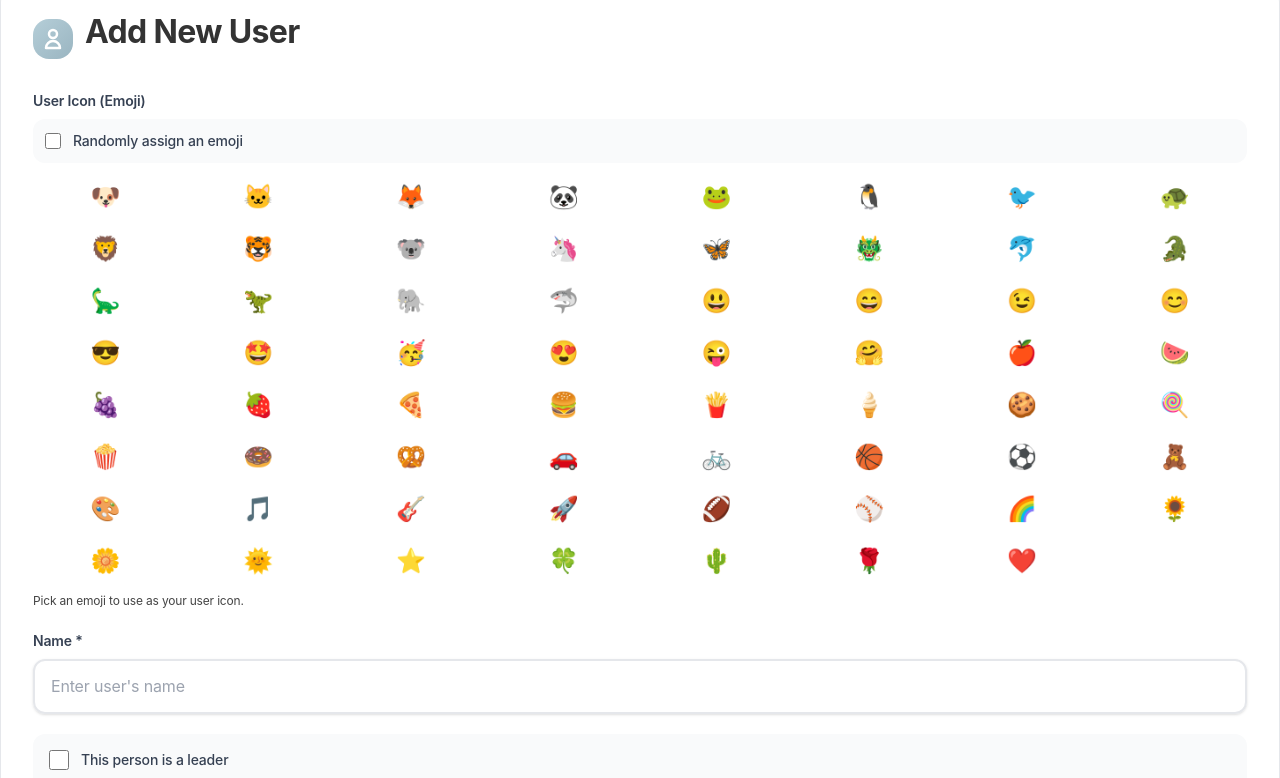
it: UserForm › form validation › enables submit button when name is provided
The image size is (1280, 778).
Type "John Doe" into the field labelled "Name *".
click(640, 687); type("John Doe")  # box [33,659,1247,714]
(page scrolled)
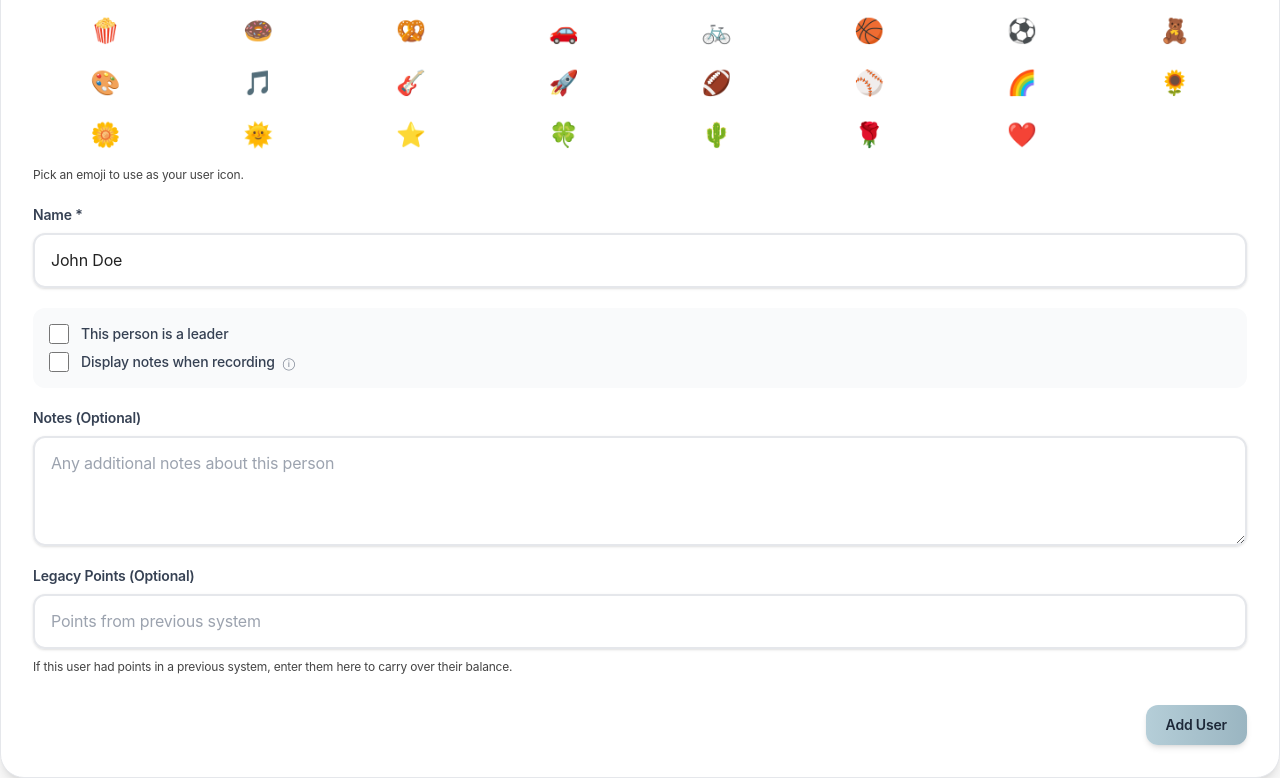
Now the button "Add User" is enabled, box [1146,705,1247,745]
